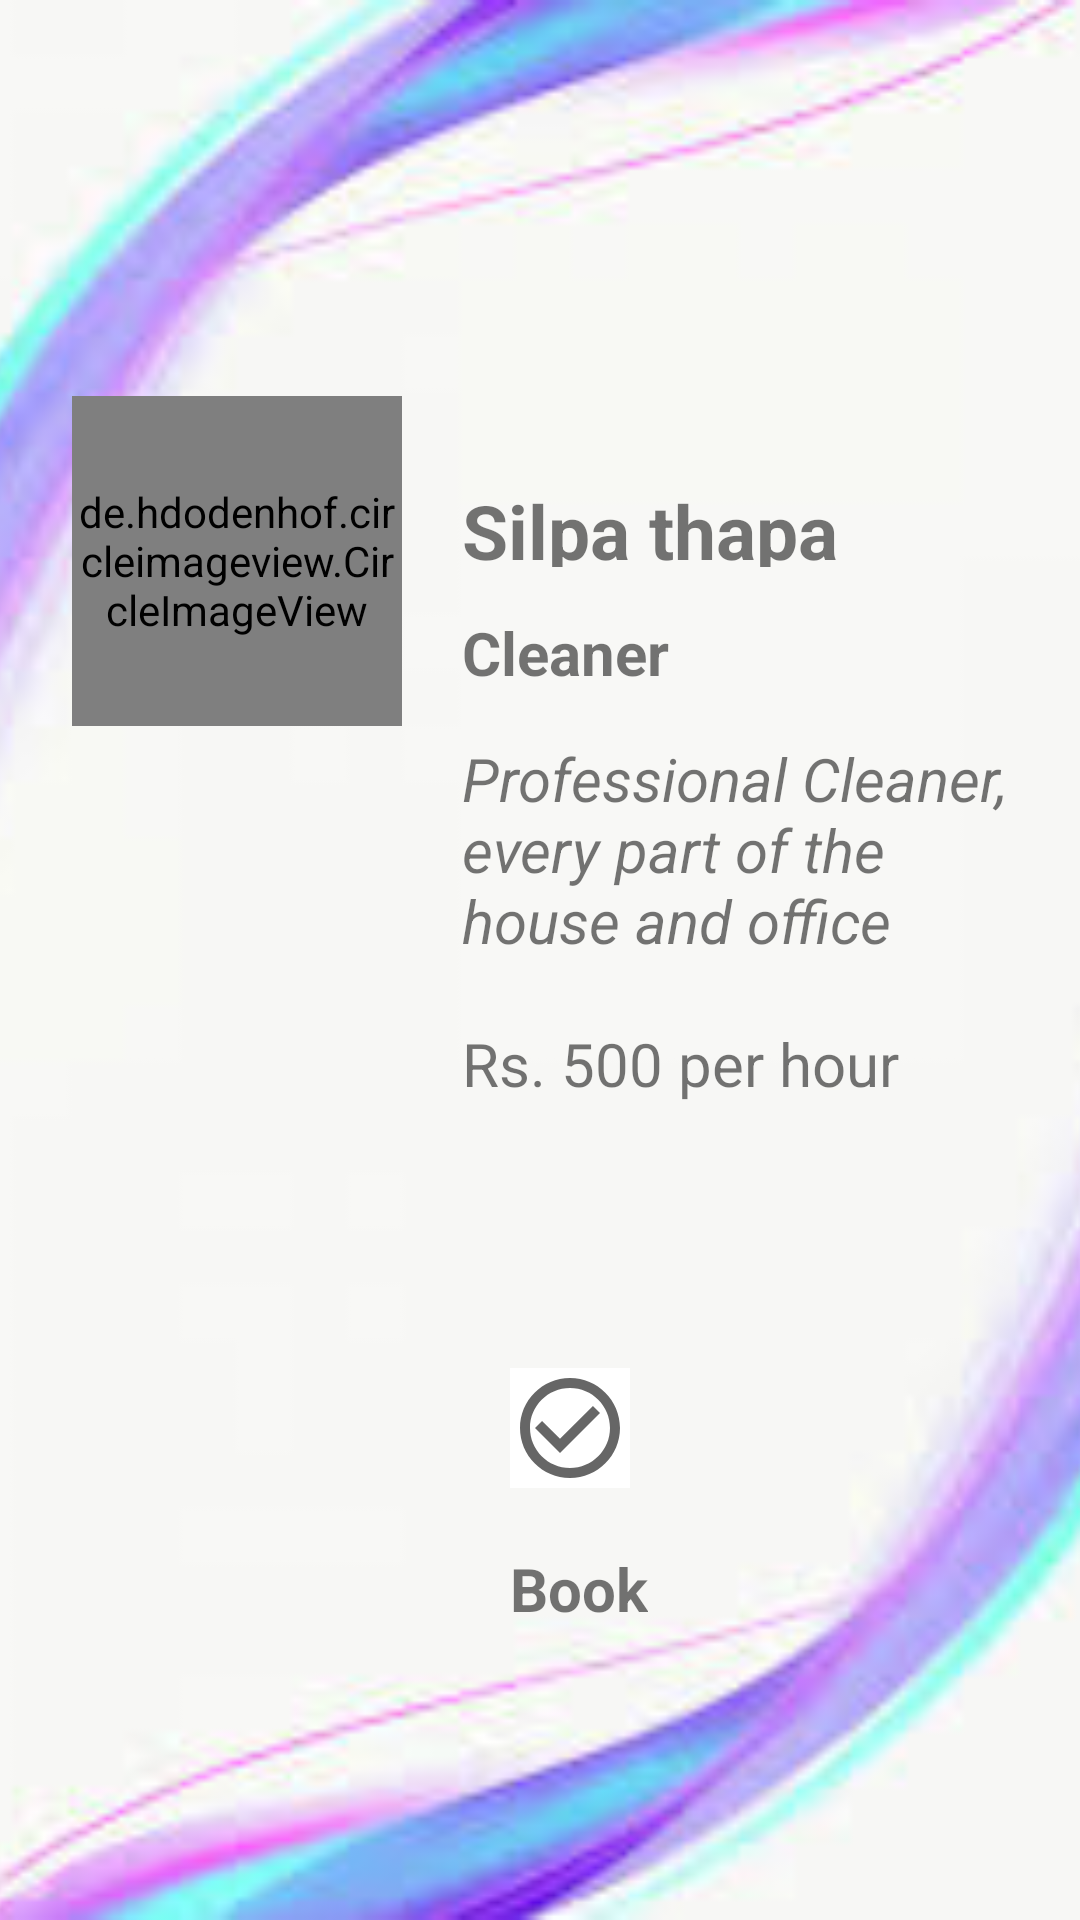

Icons on this 1080px×1920px Android screen, each with its box as (x1, y1, x2, y2):
check: (510, 1368, 630, 1488)
